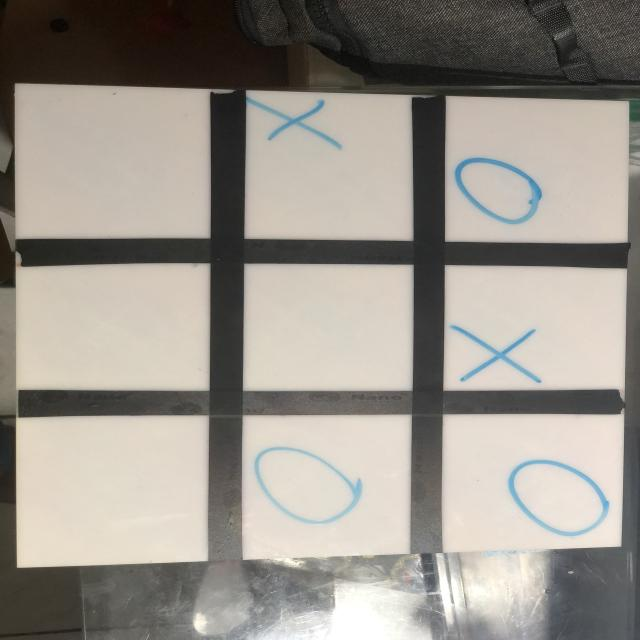null: (12, 85, 210, 245), (17, 260, 214, 395), (21, 414, 200, 561), (247, 264, 417, 394)
o: (256, 443, 361, 527), (501, 462, 612, 536), (458, 154, 547, 223)
table: (8, 84, 629, 577)
x: (451, 325, 543, 384), (247, 95, 348, 148)
